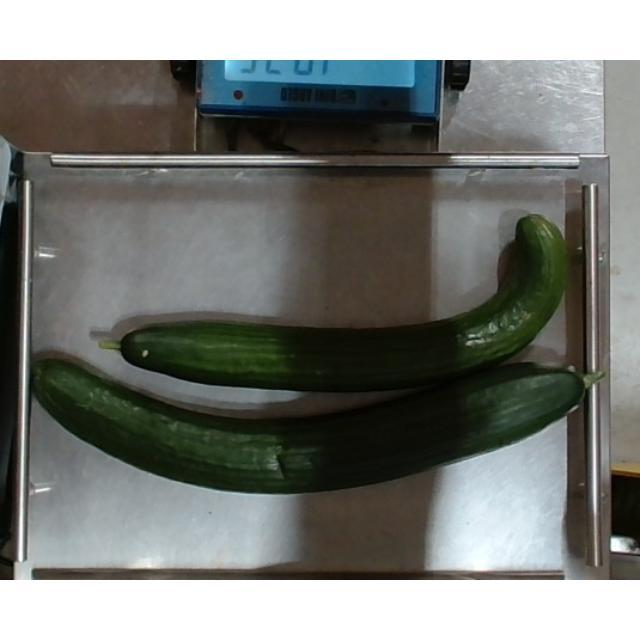cucumber: (97, 216, 571, 390), (31, 356, 586, 502)
